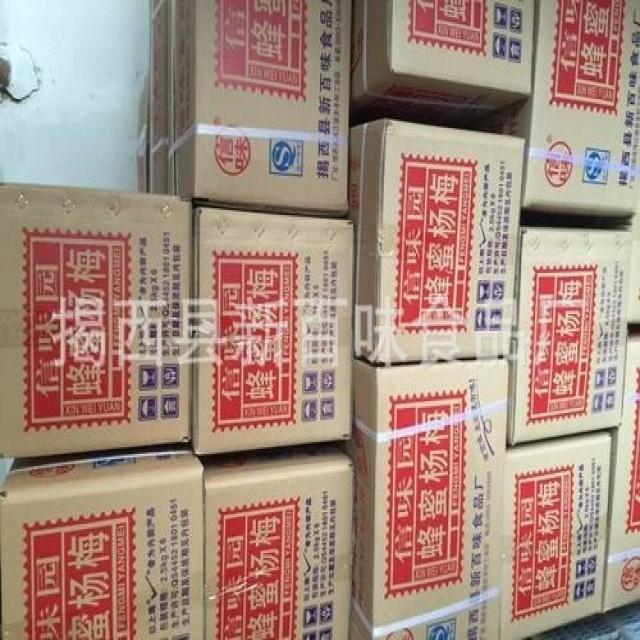box: (0, 184, 193, 461), (337, 357, 509, 638), (348, 119, 524, 361), (190, 213, 355, 456), (1, 447, 206, 637), (171, 4, 353, 216), (487, 1, 639, 225), (199, 444, 354, 638), (509, 226, 633, 445), (353, 1, 536, 130), (502, 429, 611, 637), (602, 329, 639, 610), (149, 1, 172, 191), (138, 61, 151, 190), (629, 212, 639, 325)
